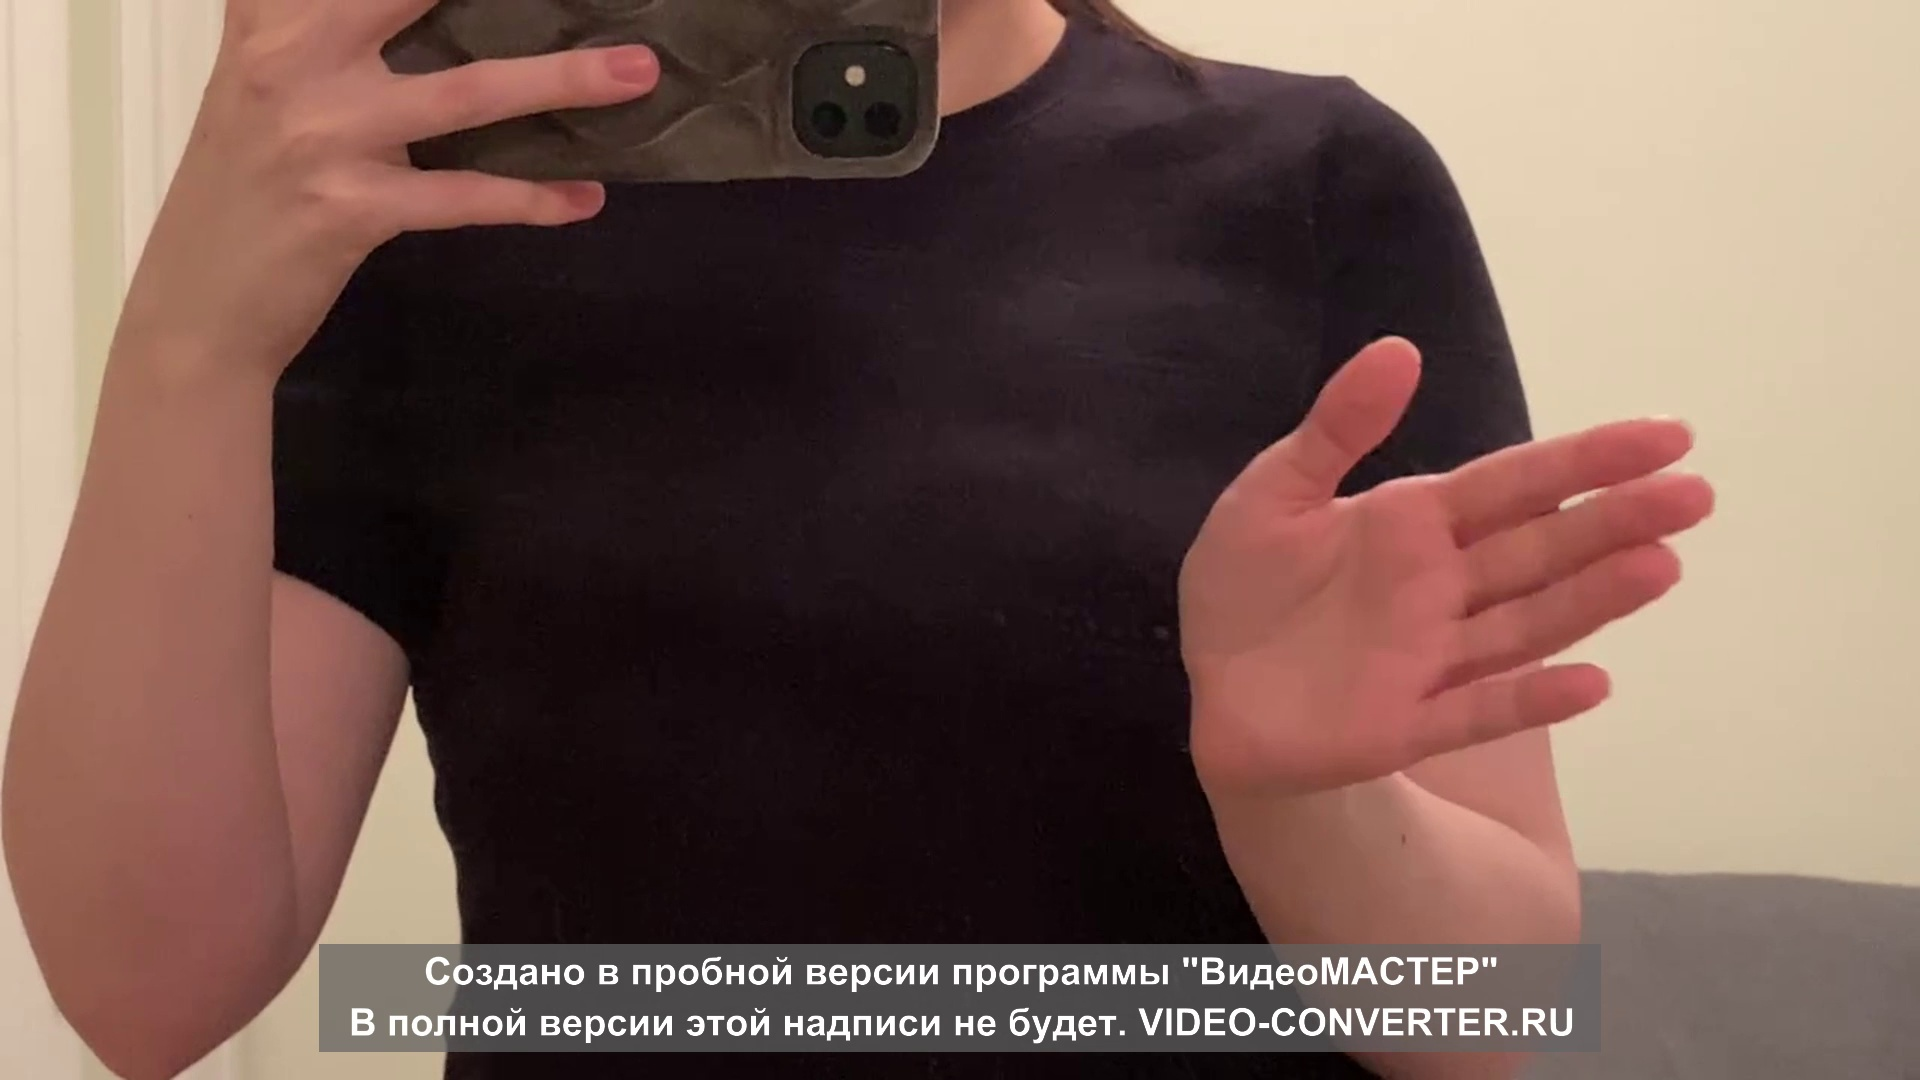Ладонь: (1176, 338, 1717, 790)
